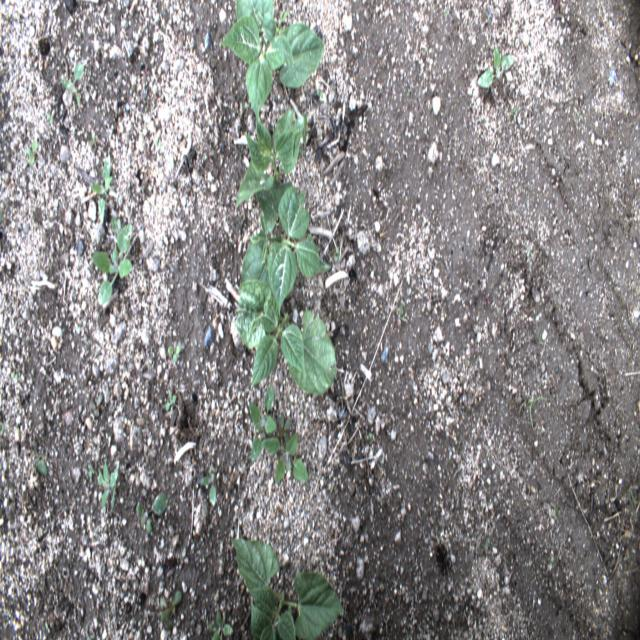crop: (218, 0, 323, 123), (241, 181, 331, 313), (235, 279, 337, 394), (230, 538, 344, 638), (234, 110, 304, 206)
weed: (91, 223, 132, 303), (262, 433, 311, 484), (250, 382, 276, 461), (478, 45, 514, 88), (91, 152, 112, 224), (136, 494, 168, 534), (62, 61, 83, 108), (98, 462, 118, 509), (521, 396, 548, 430), (207, 610, 234, 640), (161, 590, 182, 622), (201, 466, 216, 505), (160, 596, 173, 630), (277, 414, 291, 444), (89, 393, 103, 418), (26, 139, 38, 167), (165, 388, 178, 411), (33, 456, 48, 475), (167, 343, 180, 362), (302, 114, 310, 143), (398, 302, 408, 323), (111, 216, 121, 232), (550, 502, 560, 518), (333, 246, 340, 262), (46, 113, 54, 125), (549, 554, 554, 572), (364, 432, 374, 441), (509, 106, 518, 116), (88, 464, 94, 478), (46, 622, 51, 635), (11, 372, 18, 381), (316, 89, 323, 98)
